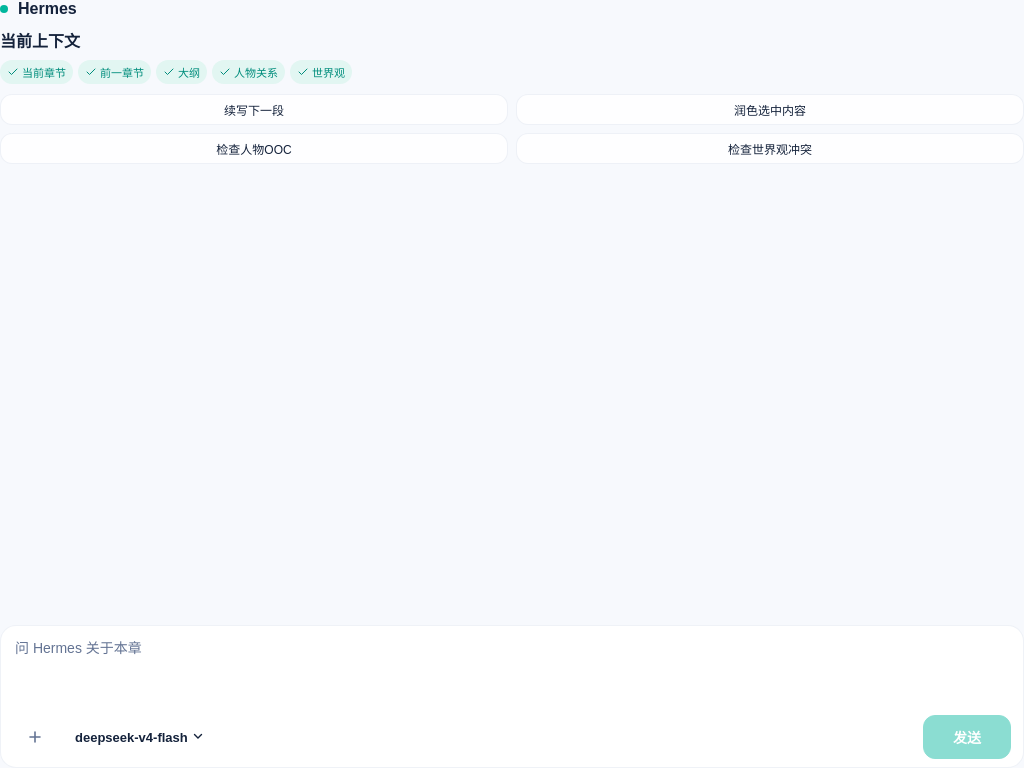
Scenario: EchoChat › tells the author when a fenced draft cannot be saved as a candidate
The image size is (1024, 768).
Type "draft it" into the text box named "给 Hermes 的消息" at (512, 670), box x1=13 y1=636 x2=1011 y2=703
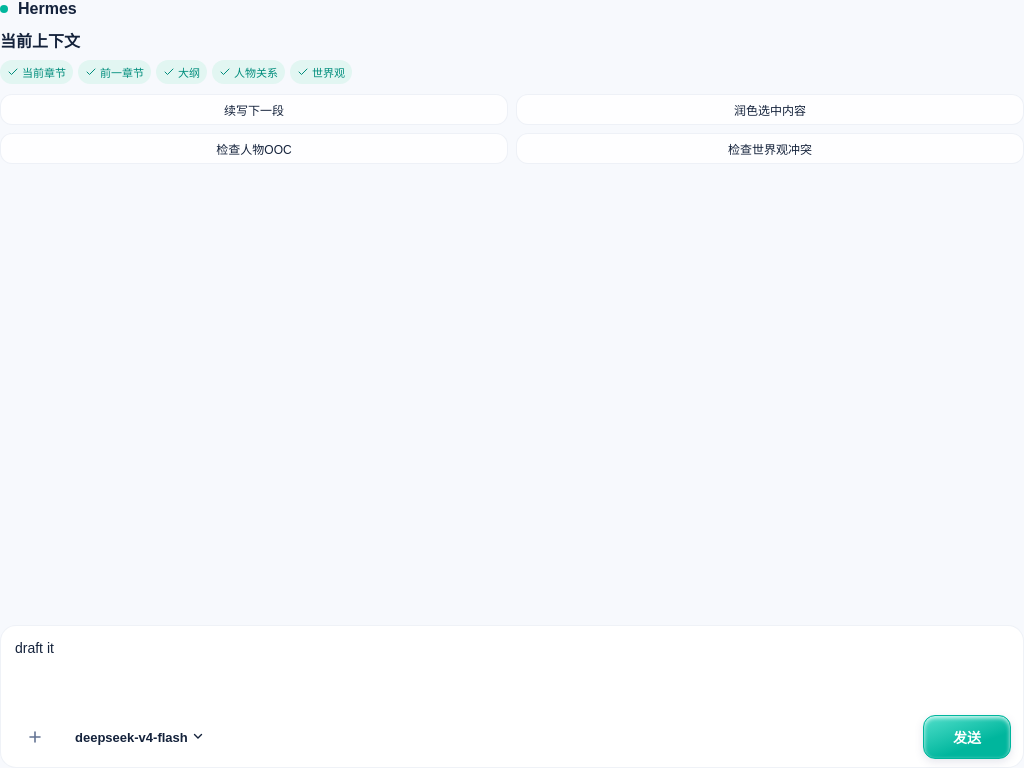
Click the button "发送" at (967, 737), box x1=923 y1=715 x2=1011 y2=759
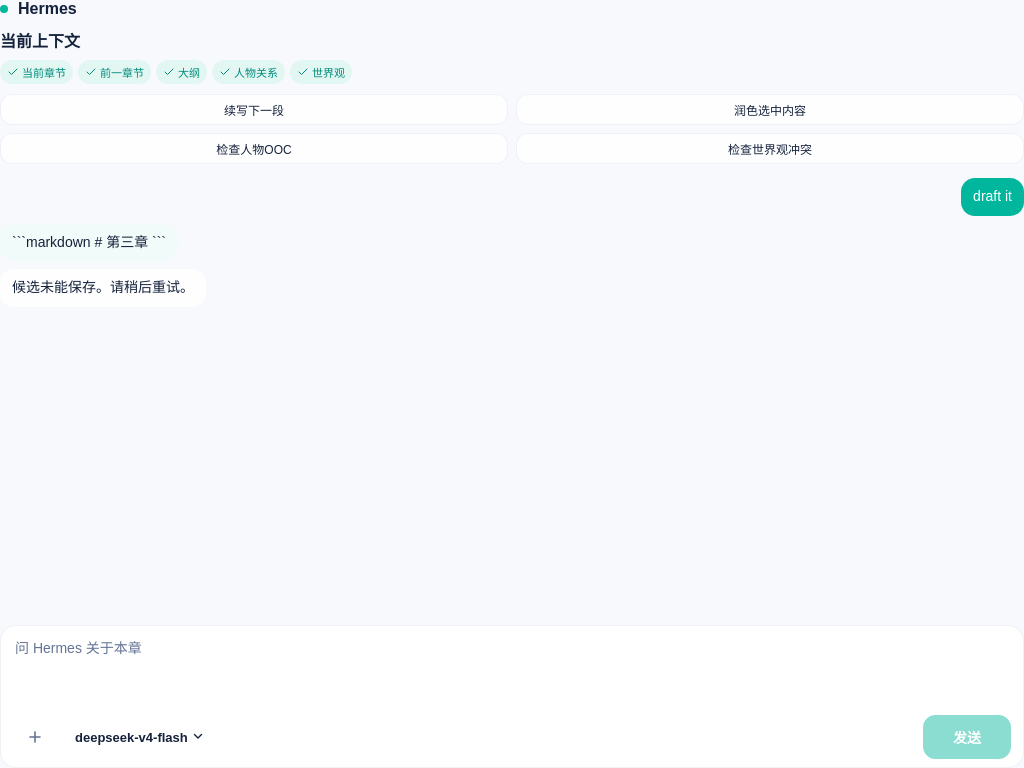
Now the message reads "候选未能保存。请稍后重试。", box x1=12 y1=279 x2=194 y2=295
